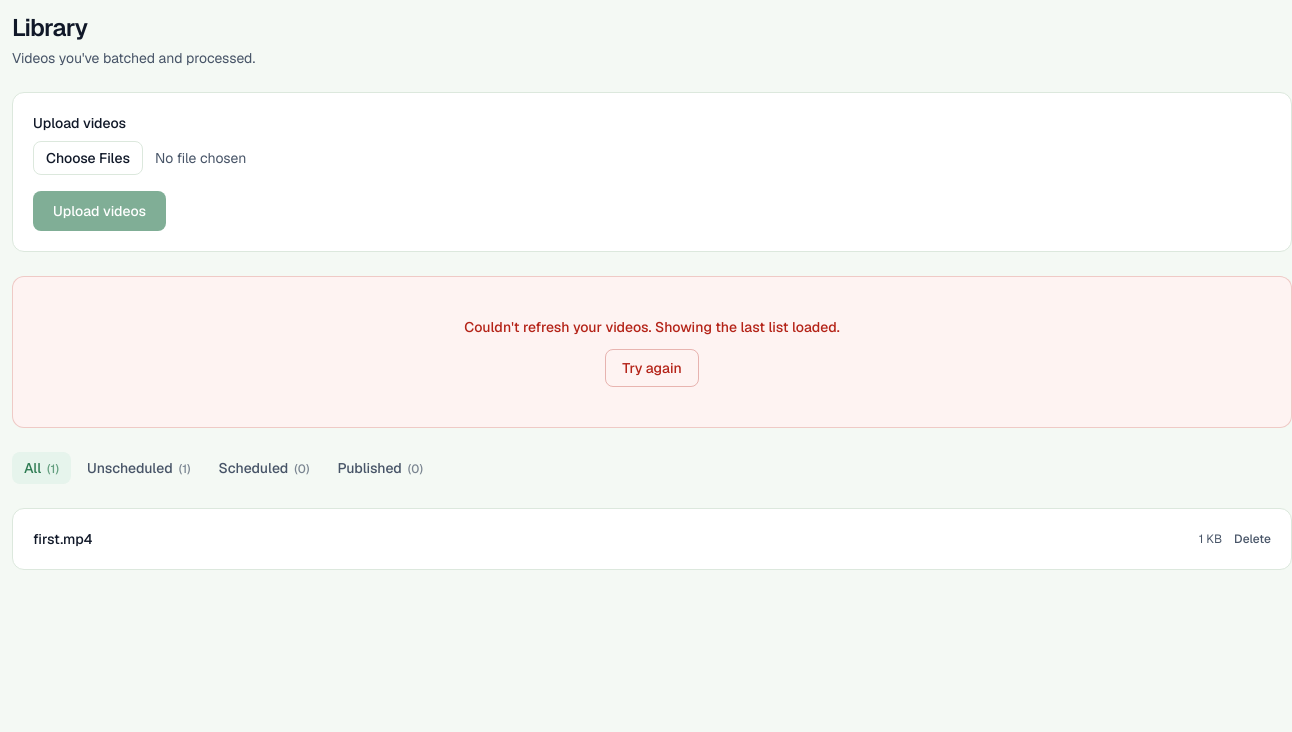
it: errors keep the last good data › a failed background refresh keeps the list and shows an actionable notice
This screenshot has width=1292, height=732.
Expected: the text "Couldn't refresh your videos. Showing the last list loaded." is shown, [464,317,840,337]
Expected: the text "first.mp4" is shown, [33,529,93,549]
Click the button "Try again" at (652, 368), box [605,349,699,387]
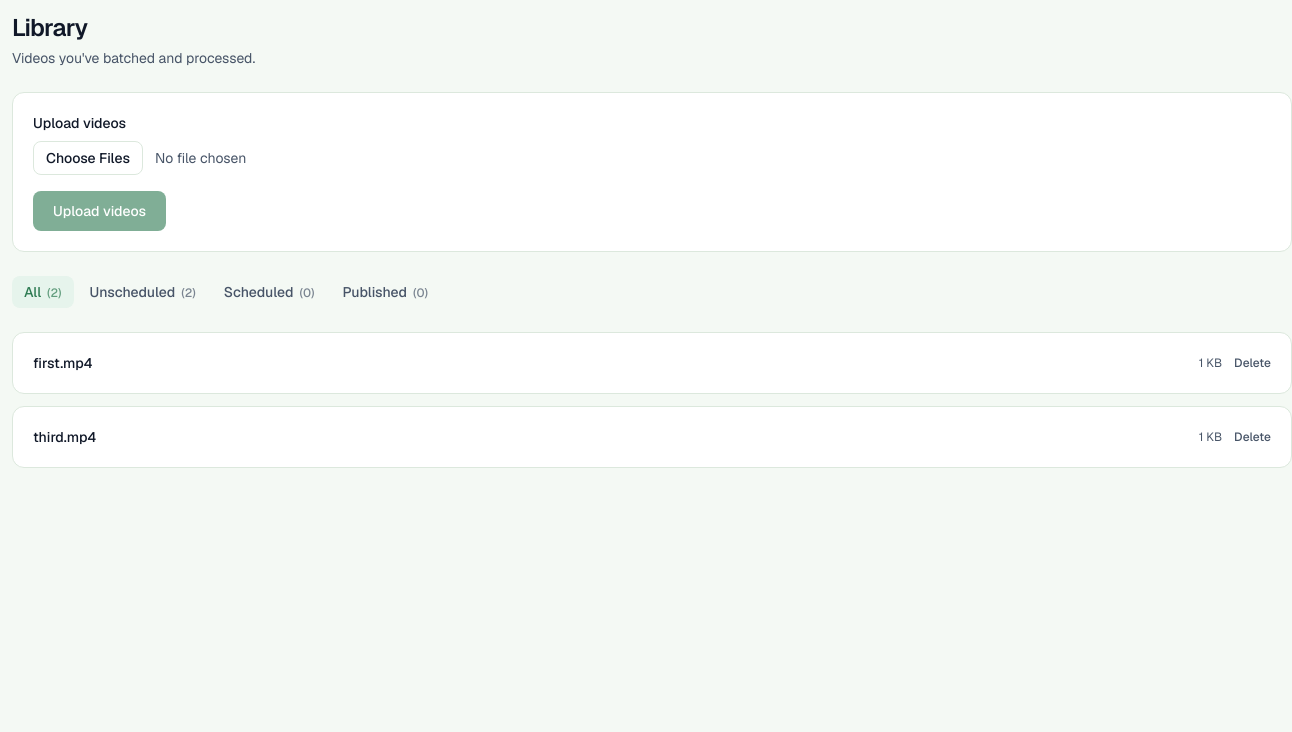
Expected: the text "third.mp4" is shown, [33,427,96,447]
